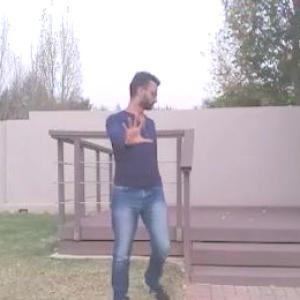follow_hand: (120, 110, 155, 148)
